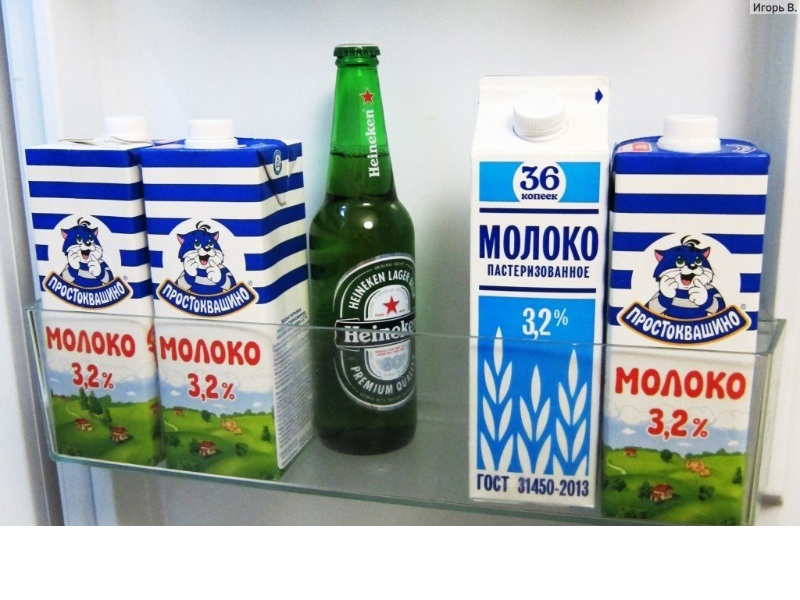milk: (594, 116, 789, 539), (433, 62, 607, 524), (141, 109, 333, 492), (14, 130, 207, 482)
